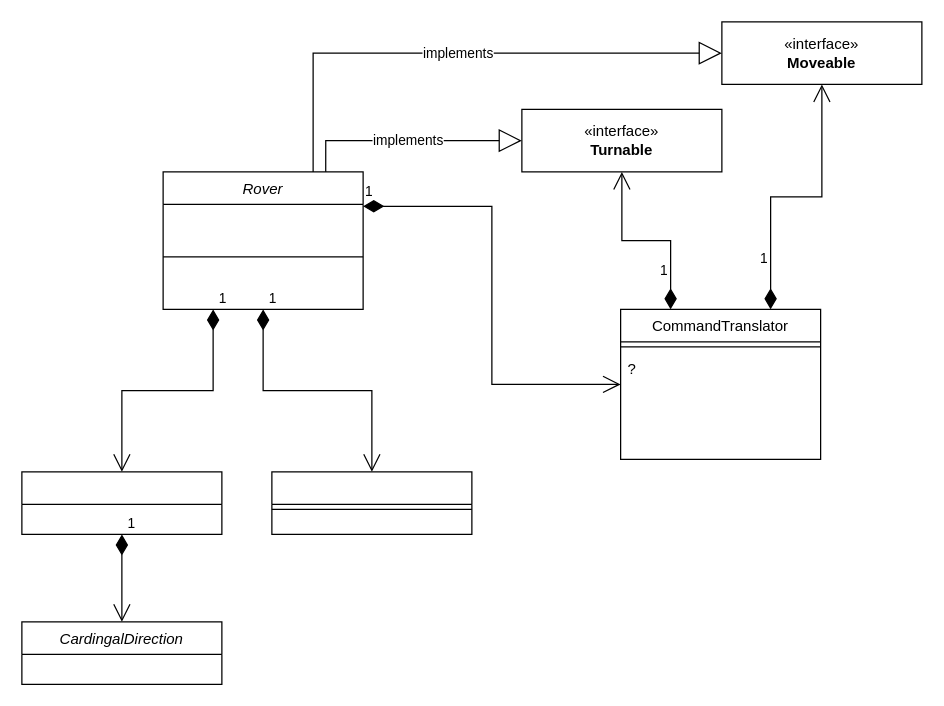
This 944x706 diagram has some shape labels left out. The centre of each missing label's shape, as x and y in pixels:
Heading: (x=121, y=502)
Position: (x=371, y=502)
